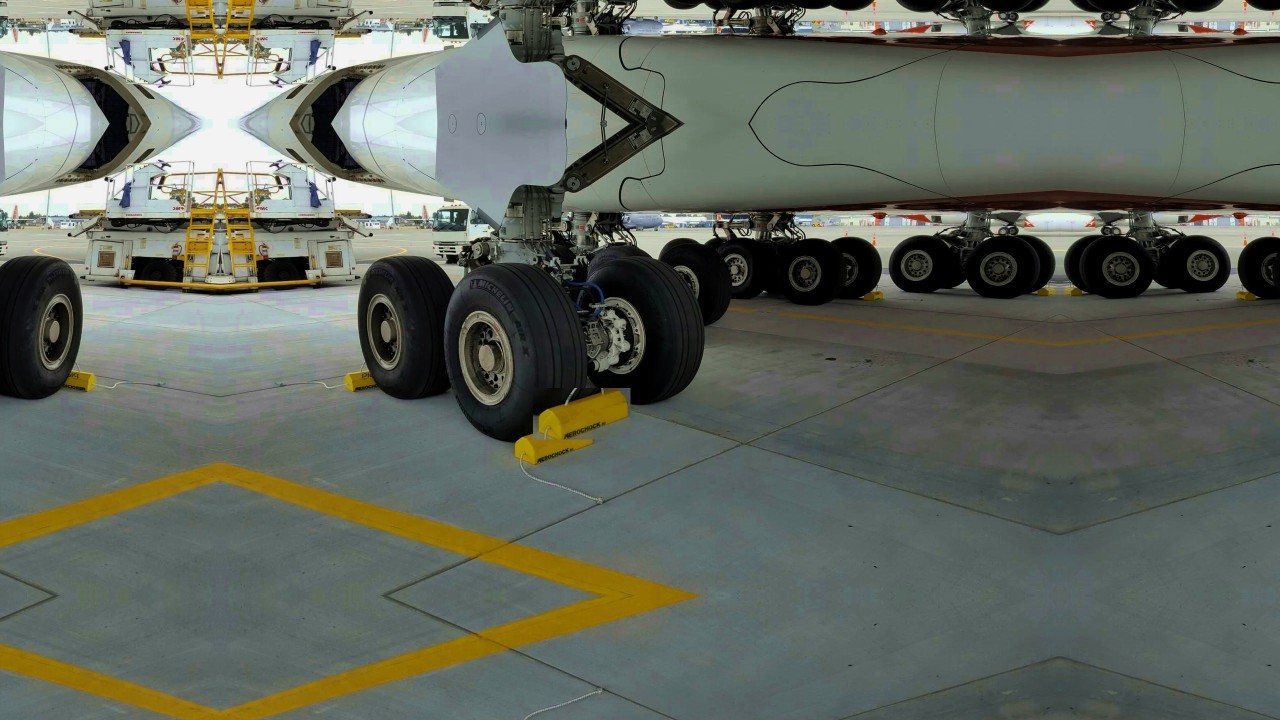chock: (533, 388, 630, 440), (510, 419, 595, 464), (30, 368, 99, 392), (341, 368, 410, 392), (861, 291, 888, 302), (1232, 291, 1259, 302), (1035, 286, 1056, 297), (1064, 286, 1085, 297)
wheel: (443, 260, 590, 438), (578, 251, 703, 404), (356, 254, 460, 398), (0, 254, 84, 398), (657, 237, 732, 323), (964, 235, 1043, 298), (1077, 235, 1156, 298), (777, 237, 845, 305), (888, 234, 957, 293), (1163, 234, 1232, 293), (830, 235, 884, 299), (717, 237, 771, 299), (1236, 235, 1280, 299), (1012, 233, 1056, 291), (1064, 233, 1108, 291), (757, 237, 792, 294), (590, 244, 653, 272), (137, 259, 176, 291), (264, 259, 303, 291), (659, 237, 704, 259), (964, 0, 1043, 12), (1077, 0, 1156, 12), (888, 0, 957, 13), (1163, 0, 1232, 13), (657, 0, 732, 9), (830, 0, 884, 12), (1012, 0, 1056, 14), (1064, 0, 1108, 14), (777, 0, 845, 9), (717, 0, 771, 10), (1236, 0, 1280, 12), (659, 0, 704, 10), (757, 0, 792, 11), (590, 0, 653, 4)
